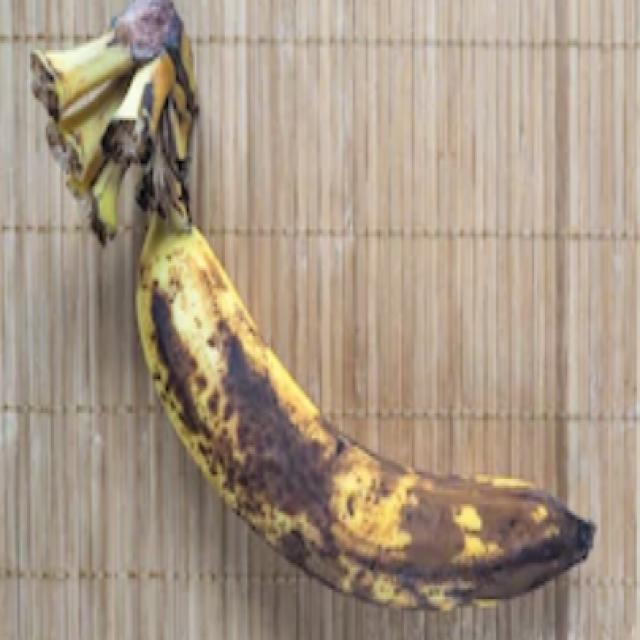Rotten: (118, 187, 604, 636)
